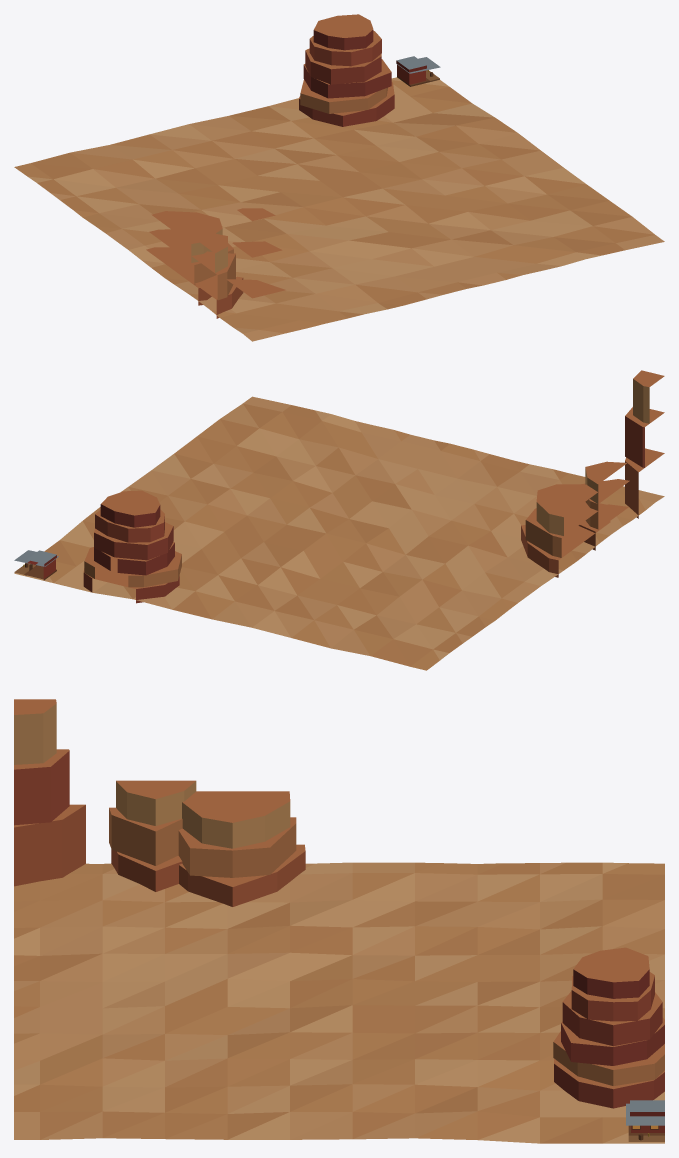
The picture shows the model from 3 angles, top to bottom: view 1: azimuth 30°, elevation 25°; view 2: azimuth 150°, elevation 25°; view 3: azimuth 270°, elevation 25°; orthographic projection. The views are drawn at different scales.
Parts seen in each view (by area): view 1: baked; view 2: baked; view 3: baked.
Part boxes in pixels (<box>): baked: <box>14,14,664,341</box>; baked: <box>14,370,664,670</box>; baked: <box>14,699,664,1143</box>.
Size of the model in its own units: 125 by 35.84 by 125.
